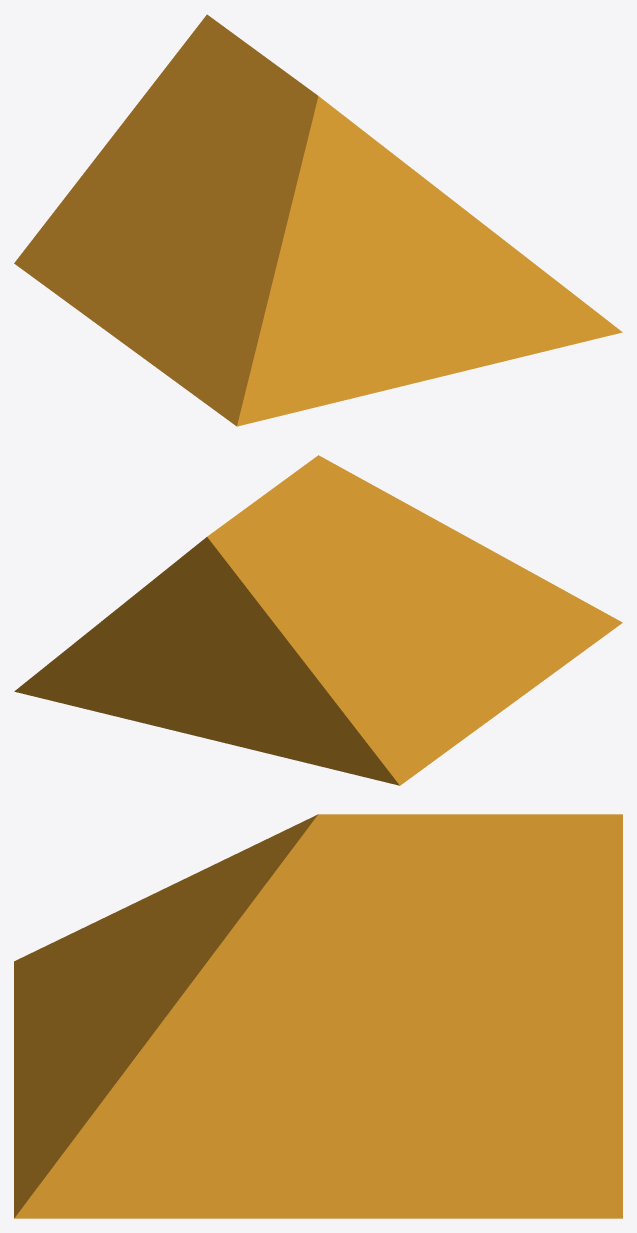
The model's file is Roof-Mid-4x4x2-Hip-End-Half-Ridge.FBX.
3 renders of one model, top to bottom at view 1: azimuth 30°, elevation 25°; view 2: azimuth 150°, elevation 25°; view 3: azimuth 270°, elevation 25°, orthographic. The views are drawn at different scales.
Visible parts, largest first — view 1: Roof-Mid-4x4x2-Hip-End-Half-Ridge; view 2: Roof-Mid-4x4x2-Hip-End-Half-Ridge; view 3: Roof-Mid-4x4x2-Hip-End-Half-Ridge.
Boxes of the visible parts, box(x1,y1,x2,y2) form: Roof-Mid-4x4x2-Hip-End-Half-Ridge: box(14, 14, 622, 426); Roof-Mid-4x4x2-Hip-End-Half-Ridge: box(14, 455, 622, 785); Roof-Mid-4x4x2-Hip-End-Half-Ridge: box(14, 814, 622, 1218).
Bounding box in the file's own units: 40 × 40 × 20.
